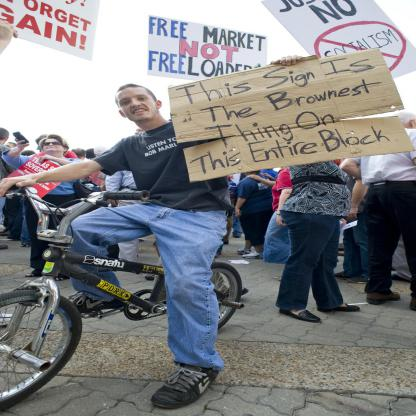face: (117, 87, 157, 122), (44, 140, 64, 153), (5, 144, 15, 153)
